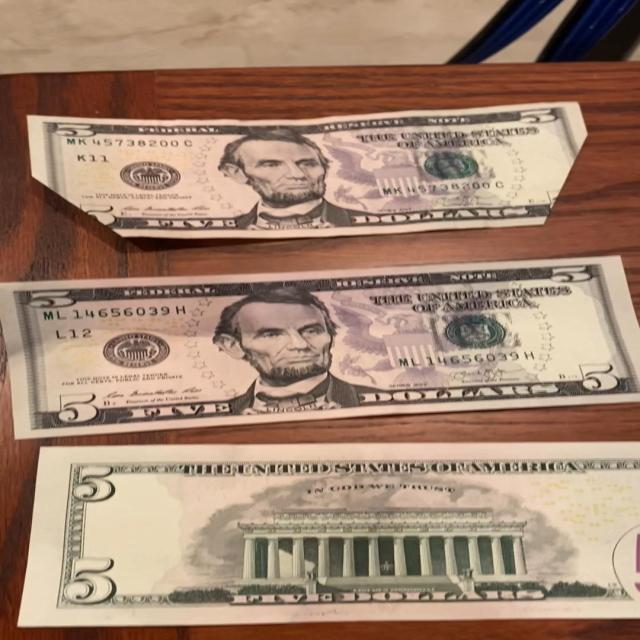5-Back: (10, 442, 640, 628)
5-Front: (1, 254, 640, 441), (25, 98, 592, 241)
